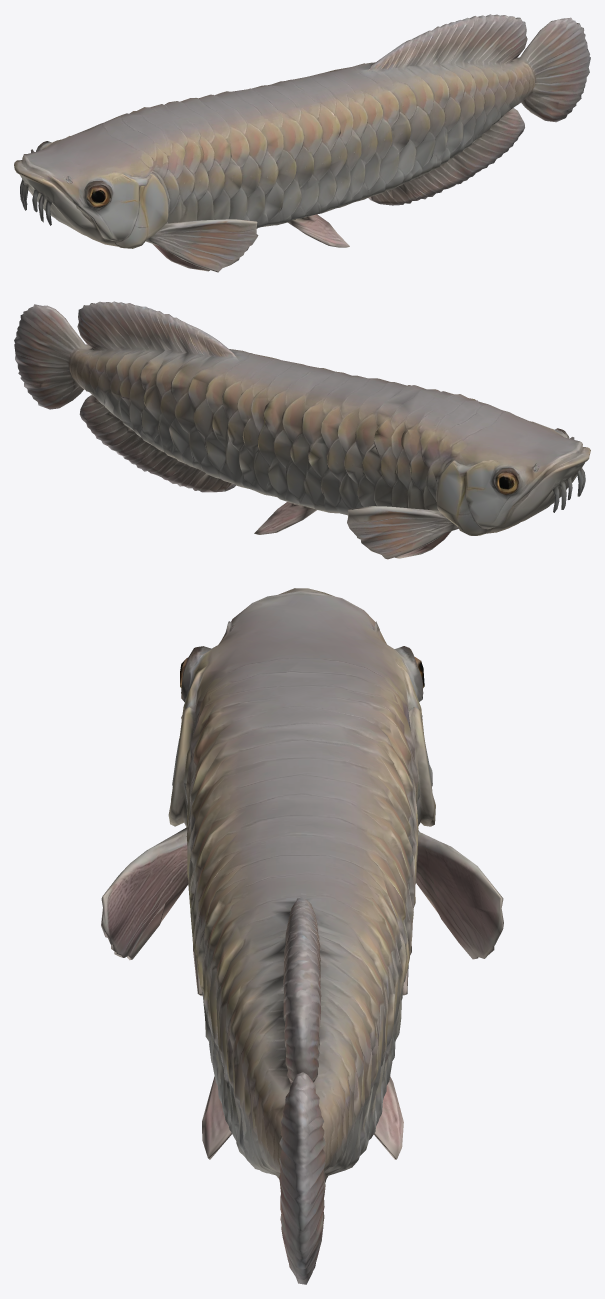
The model's file is fish-arovana.glb.
The picture shows the model from 3 angles, top to bottom: view 1: azimuth 30°, elevation 25°; view 2: azimuth 150°, elevation 25°; view 3: azimuth 270°, elevation 25°; orthographic projection. The views are drawn at different scales.
Parts seen in each view (by area): view 1: tripo_node_c3355225-4462-4074-8b96-2ebee2078df2; view 2: tripo_node_c3355225-4462-4074-8b96-2ebee2078df2; view 3: tripo_node_c3355225-4462-4074-8b96-2ebee2078df2.
Part boxes in pixels (x1=…): tripo_node_c3355225-4462-4074-8b96-2ebee2078df2: x1=14, y1=14, x2=590, y2=272; tripo_node_c3355225-4462-4074-8b96-2ebee2078df2: x1=14, y1=301, x2=590, y2=559; tripo_node_c3355225-4462-4074-8b96-2ebee2078df2: x1=101, y1=588, x2=503, y2=1284.
Size of the model in its own units: 1 by 0.2959 by 0.3042.
1 material, 1 textured.
